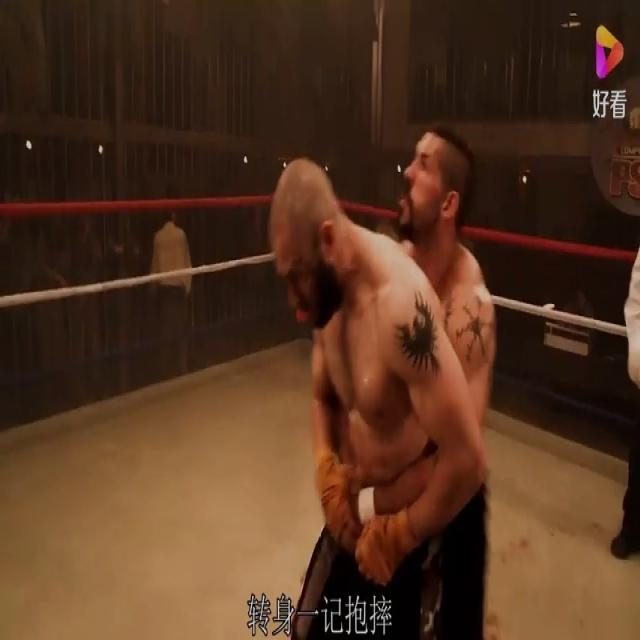fight: (258, 122, 501, 638)
